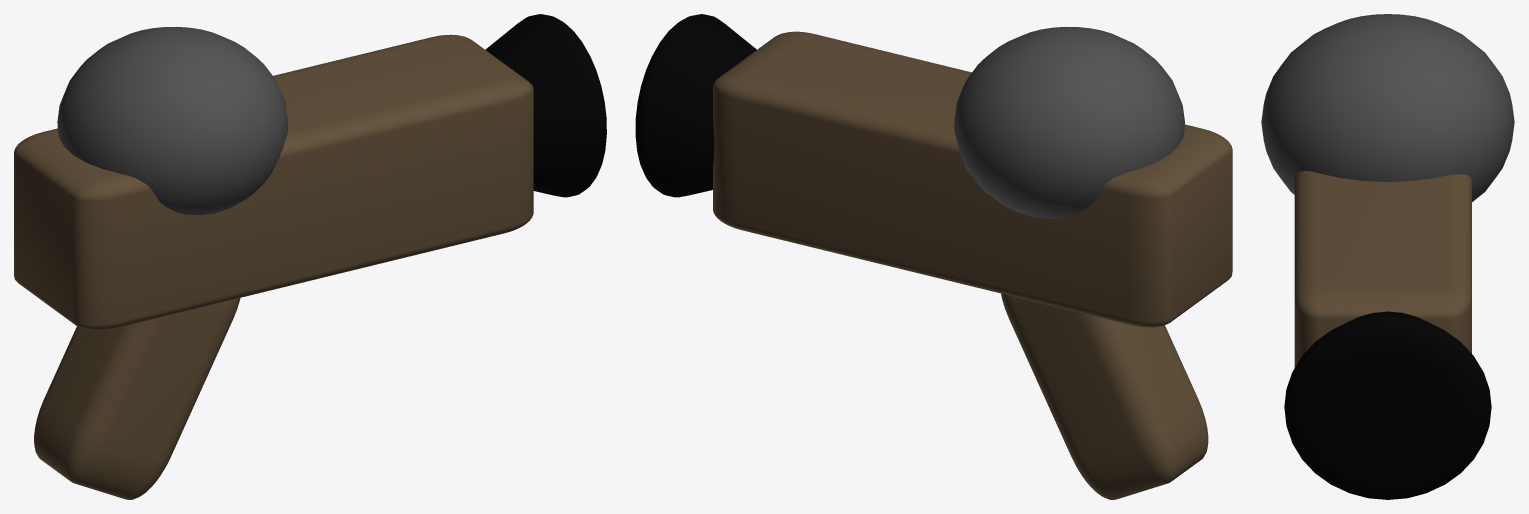
File: VacuumGunColored.fbx
The picture shows the model from 3 angles, left to right: view 1: azimuth 30°, elevation 25°; view 2: azimuth 150°, elevation 25°; view 3: azimuth 270°, elevation 25°; orthographic projection. The views are drawn at different scales.
Parts seen in each view (by area): view 1: VacuumGun; view 2: VacuumGun; view 3: VacuumGun.
Boxes of the visible parts, x1,y1,x2,y2 form: VacuumGun: [14, 14, 606, 499]; VacuumGun: [635, 14, 1232, 499]; VacuumGun: [1261, 14, 1514, 499].
Size of the model in its own units: 378 by 297 by 143.
